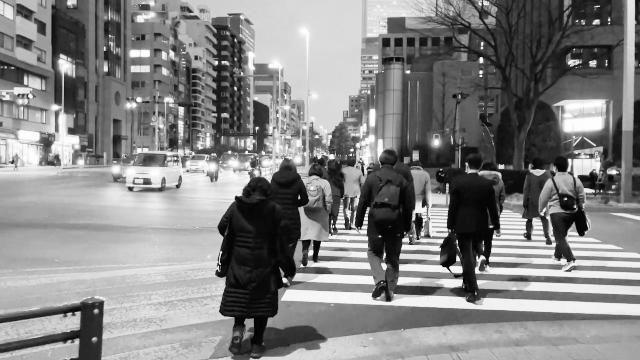berjalan: (215, 175, 288, 360), (352, 146, 420, 304), (446, 156, 496, 304), (535, 152, 587, 274), (518, 156, 556, 250), (302, 162, 331, 272)
